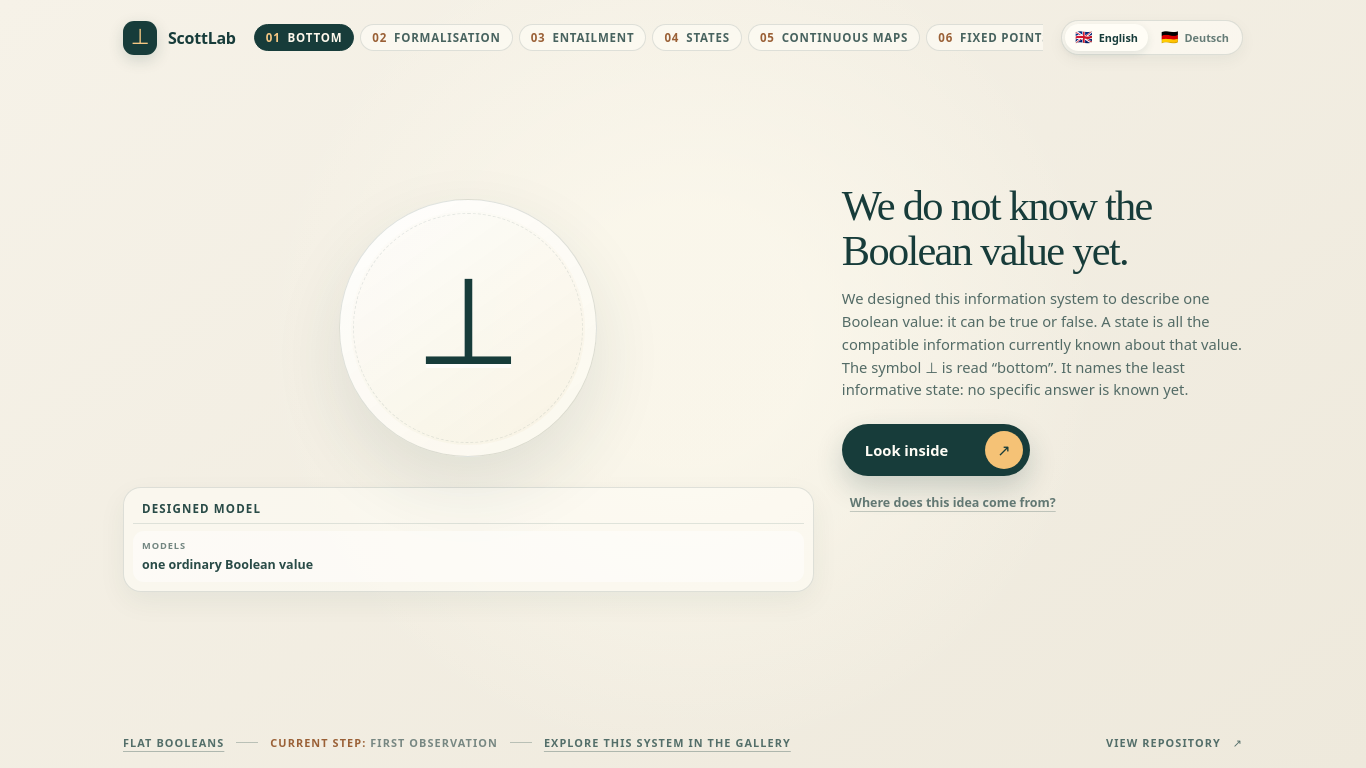
Scenario: ScottLab introduction and bottom-first lesson › bridges from Scott's general idea to a Boolean example
The width and height of the screenshot is (1366, 768).
Click the button "Where does this idea come from?" at x=953, y=503, box [842, 489, 1064, 516]
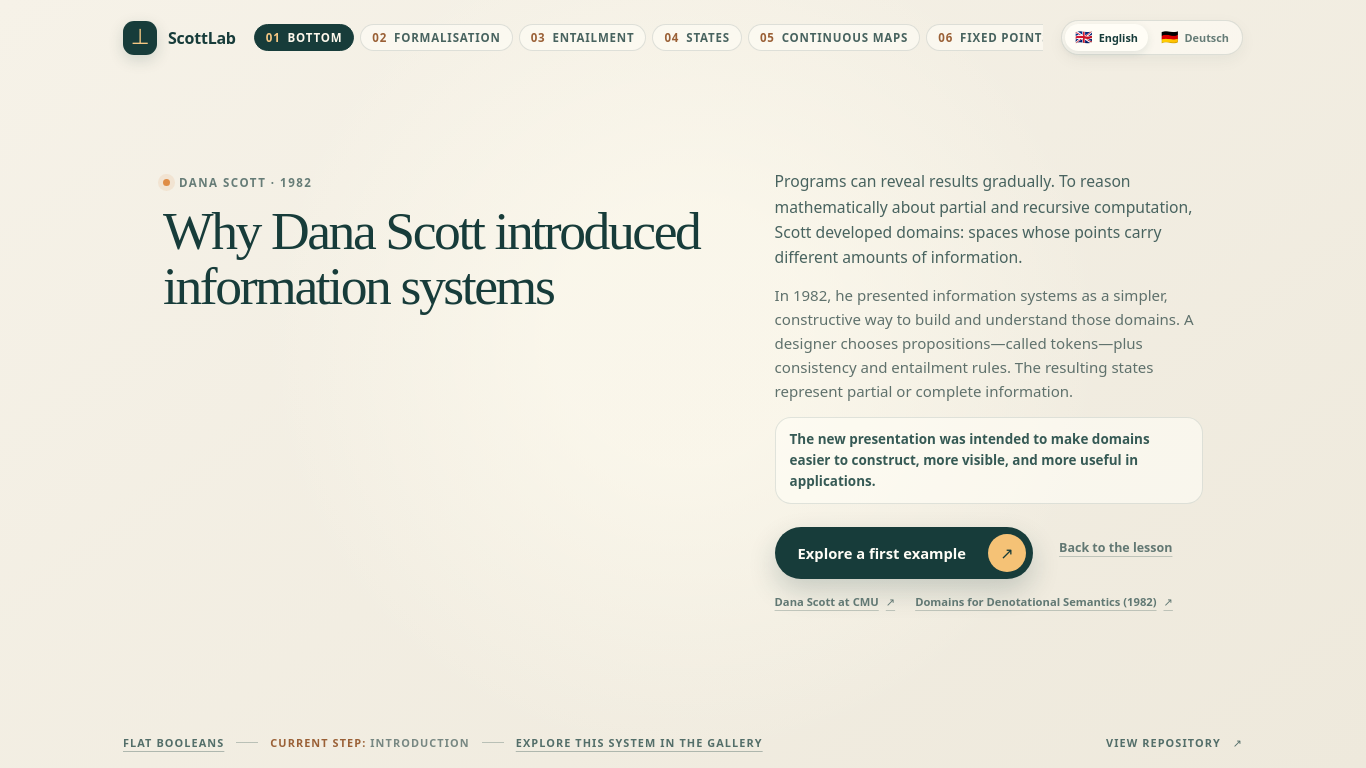
Click the button "Explore a first example ↗" at x=904, y=553, box [775, 527, 1033, 579]
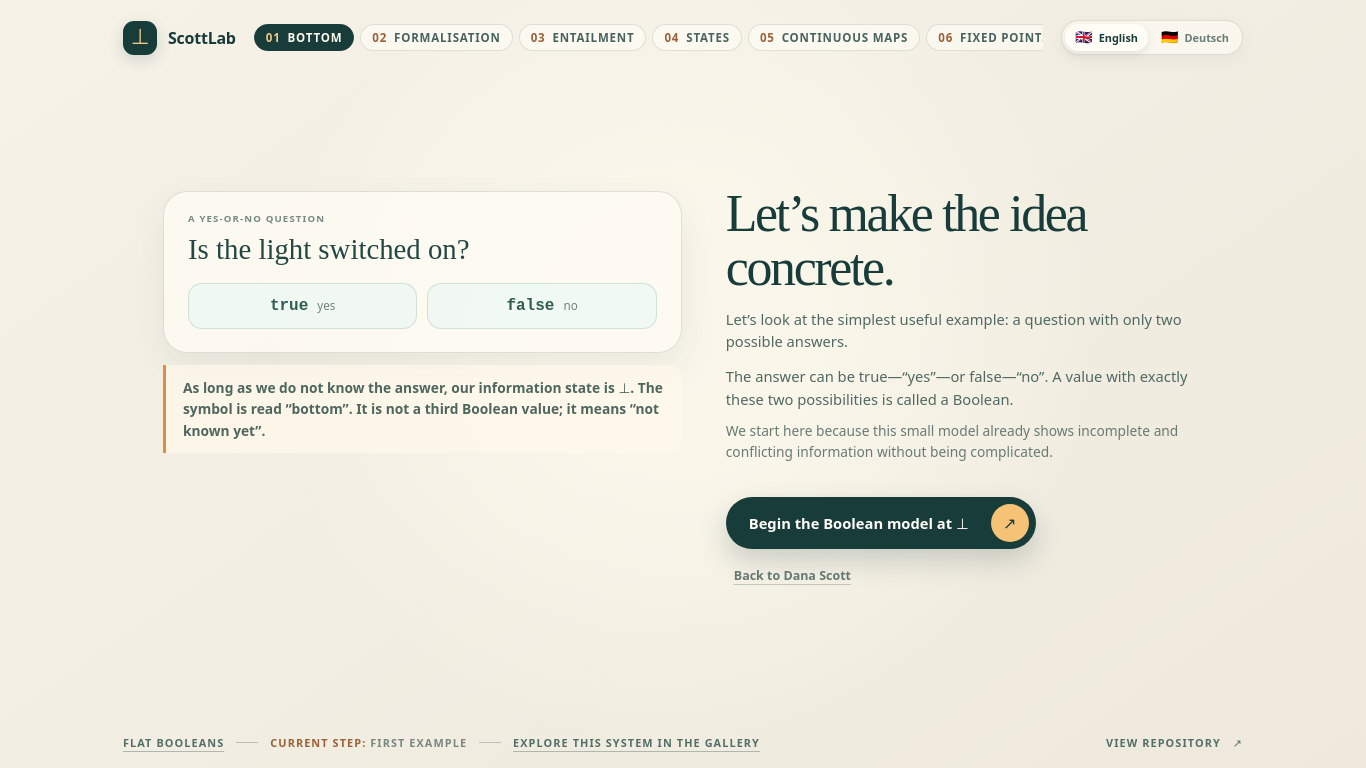
Expected: the text "Let’s look at the simplest useful example" is shown, [726, 308, 1182, 351]
Expected: the heading "Is the light switched on?" is shown, [188, 233, 470, 265]
Expected: the text "is called a Boolean" is shown, [726, 366, 1188, 409]
